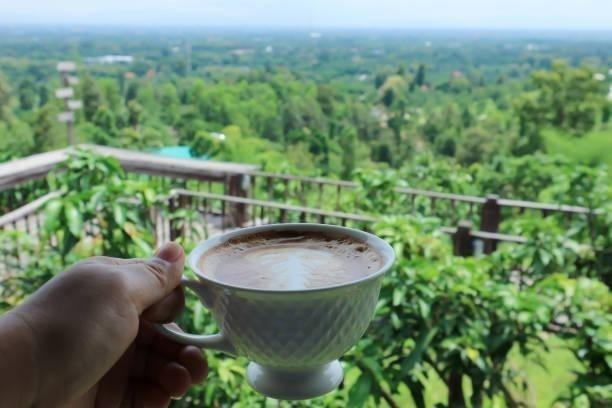cup-handle: (151, 220, 398, 401)
